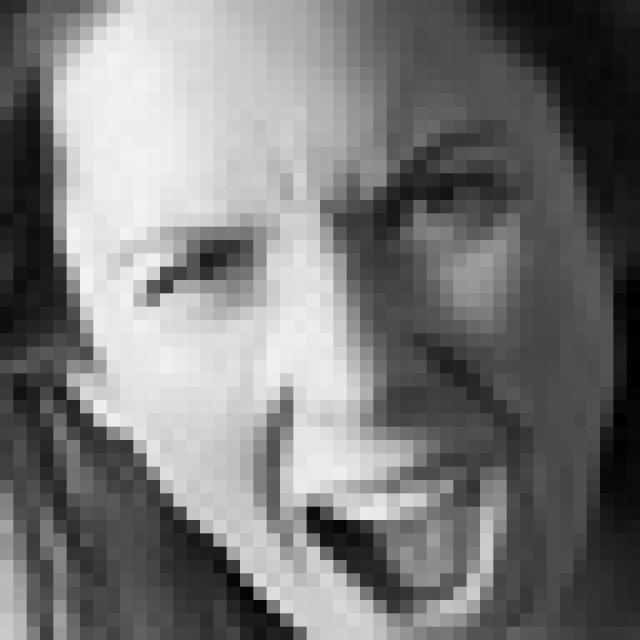angry: (120, 113, 530, 640)
